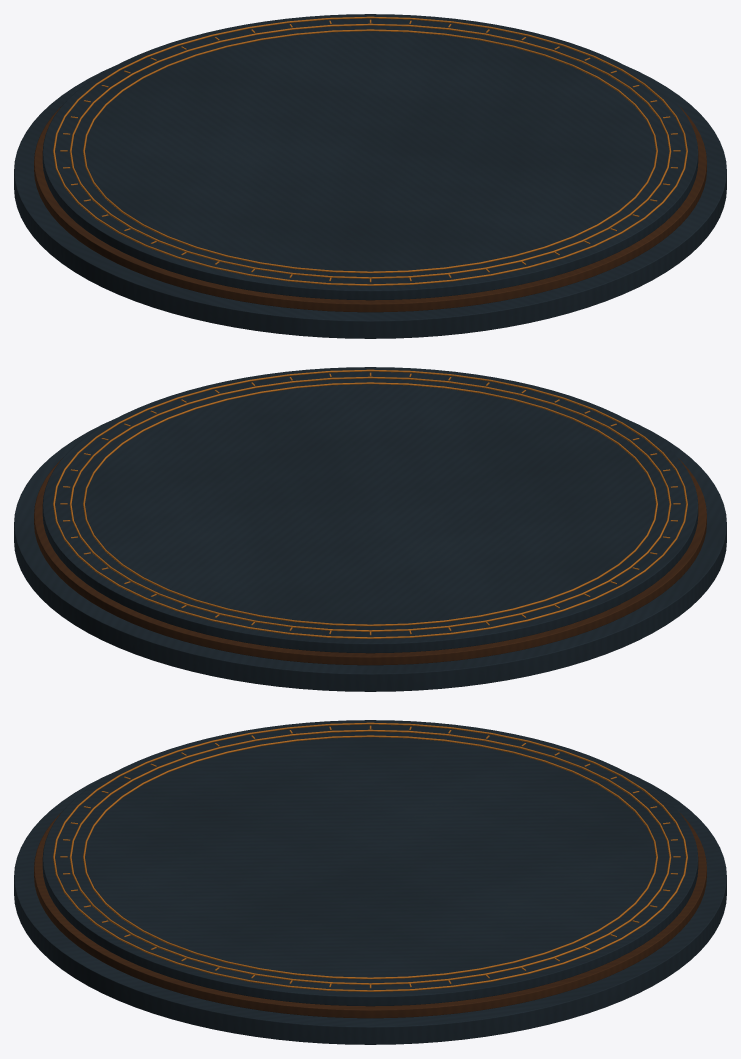
The model's file is plinth.glb.
3 renders of one model, top to bottom at view 1: azimuth 30°, elevation 25°; view 2: azimuth 150°, elevation 25°; view 3: azimuth 270°, elevation 25°, orthographic.
Parts seen in each view (by area): view 1: Weathered_basalt, Brushed_gold, Patinated_bronze; view 2: Weathered_basalt, Brushed_gold, Patinated_bronze; view 3: Weathered_basalt, Brushed_gold, Patinated_bronze.
Part boxes in pixels (x1=…): Weathered_basalt: x1=14, y1=14, x2=726, y2=338; Brushed_gold: x1=53, y1=16, x2=687, y2=285; Patinated_bronze: x1=34, y1=105, x2=706, y2=312; Weathered_basalt: x1=14, y1=367, x2=726, y2=691; Brushed_gold: x1=53, y1=369, x2=687, y2=638; Patinated_bronze: x1=34, y1=458, x2=706, y2=665; Weathered_basalt: x1=14, y1=720, x2=726, y2=1044; Brushed_gold: x1=53, y1=722, x2=687, y2=991; Patinated_bronze: x1=34, y1=811, x2=706, y2=1018.
Size of the model in its own units: 10.7 by 0.63 by 10.7.
3 materials, 3 textured.
